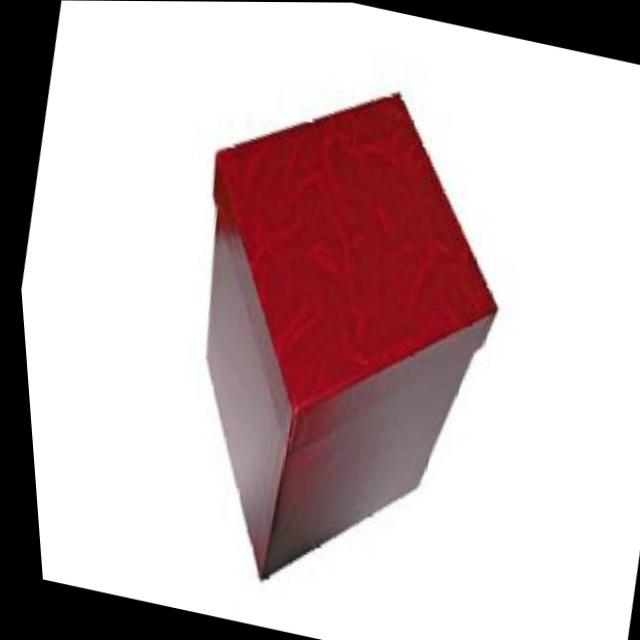box: (100, 38, 564, 640)
